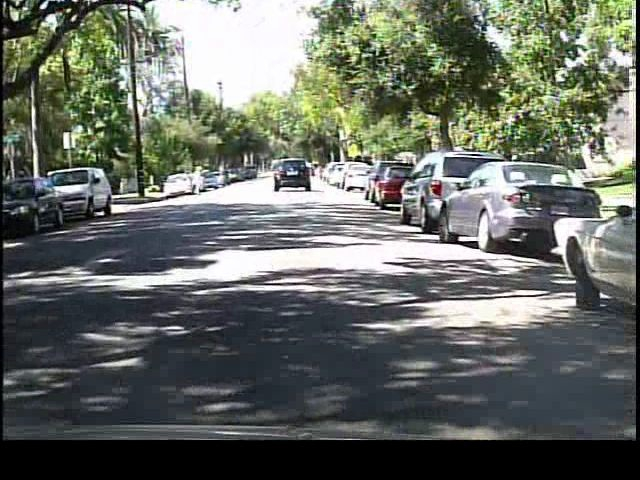person: (187, 162, 206, 200)
